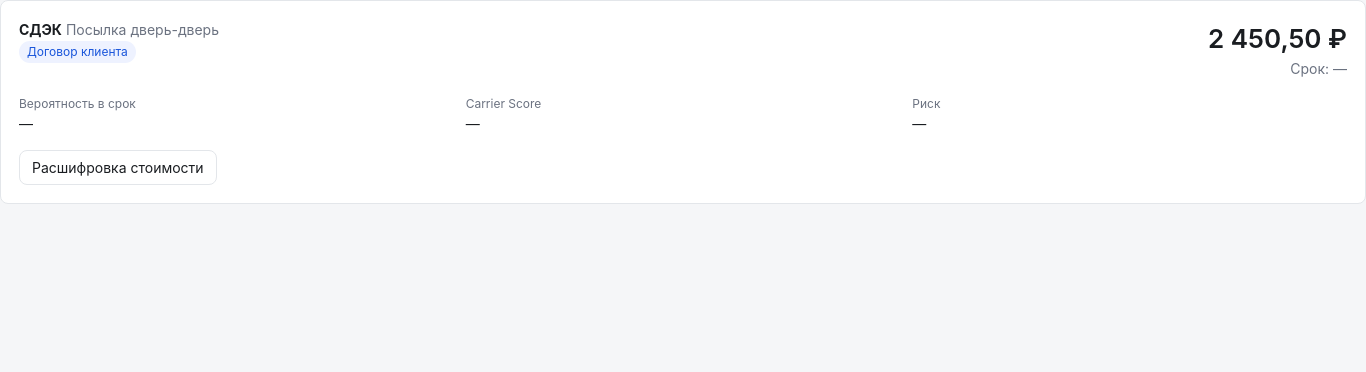
Test: OfferCard › в расшифровке показывает подпись перевозчика, а не наш тип
Click the button "Расшифровка стоимости": (118, 168) x1=19 y1=150 x2=217 y2=185
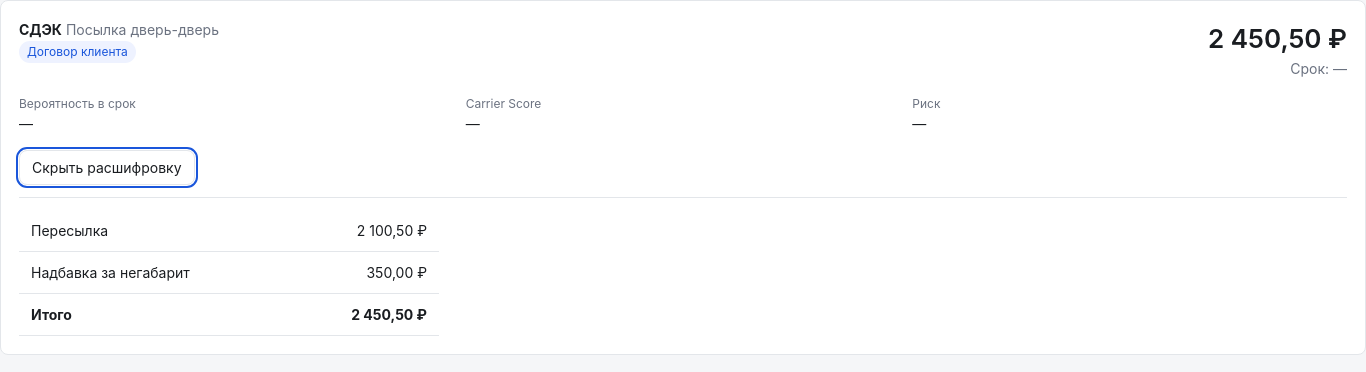
Check: the text "Надбавка за негабарит" is shown, box x1=19 y1=252 x2=291 y2=294
